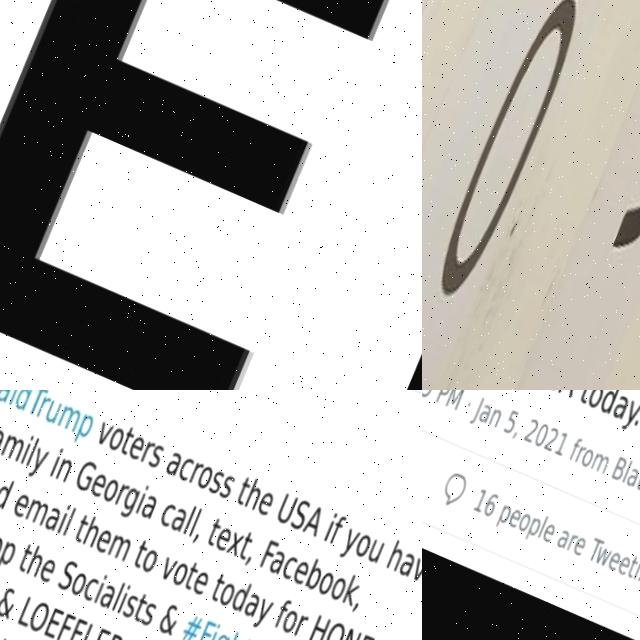0: (422, 0, 599, 307)
1: (499, 408, 518, 435)
2: (477, 490, 498, 518)
5: (591, 0, 640, 271)
A: (299, 503, 327, 538), (161, 449, 183, 478), (136, 492, 158, 521), (165, 505, 187, 533), (238, 591, 260, 619), (607, 393, 629, 421), (41, 504, 62, 533), (394, 551, 415, 579), (264, 548, 285, 576), (95, 582, 116, 610), (620, 464, 637, 488), (551, 526, 568, 550), (474, 401, 490, 423), (552, 390, 581, 398), (0, 390, 14, 403), (0, 426, 6, 454)
B: (301, 557, 325, 591), (607, 454, 626, 480)
C: (155, 500, 177, 528), (78, 574, 99, 602), (173, 456, 194, 482), (276, 554, 297, 580)
D: (227, 578, 250, 612), (594, 390, 618, 414), (10, 390, 34, 410), (0, 475, 14, 509)
E: (0, 0, 422, 390), (39, 605, 63, 639), (252, 489, 275, 518), (85, 470, 108, 499), (210, 524, 233, 553), (90, 526, 113, 555), (124, 433, 146, 462), (9, 490, 31, 519), (34, 556, 56, 585), (288, 559, 310, 587), (187, 568, 209, 596), (601, 548, 620, 572), (502, 506, 520, 528), (611, 554, 628, 576), (537, 521, 554, 543), (86, 625, 110, 640), (568, 535, 584, 557), (350, 632, 374, 640), (416, 561, 422, 590)
F: (255, 538, 278, 571), (269, 598, 290, 630), (53, 611, 76, 640), (325, 513, 346, 544), (64, 616, 86, 640), (192, 618, 214, 640), (564, 435, 581, 462)
G: (70, 457, 99, 493), (115, 484, 139, 519), (204, 631, 229, 640)
H: (382, 538, 406, 573), (78, 515, 102, 549), (22, 544, 46, 578), (242, 478, 264, 509), (304, 613, 329, 640), (221, 631, 243, 640)
I: (131, 483, 149, 515), (17, 434, 34, 464), (53, 504, 70, 534), (46, 447, 62, 477), (113, 583, 129, 613), (90, 574, 106, 604), (320, 512, 336, 541), (627, 554, 640, 579), (203, 623, 218, 640)
J: (465, 394, 483, 426)
K: (338, 573, 362, 607)
L: (13, 594, 37, 628), (185, 507, 202, 537), (59, 506, 76, 536), (107, 581, 124, 611), (75, 620, 99, 640), (23, 437, 39, 466), (179, 505, 195, 534), (533, 514, 546, 539), (617, 459, 631, 482), (5, 390, 22, 405)
M: (103, 532, 131, 562), (21, 497, 49, 527), (54, 404, 81, 433), (0, 432, 25, 462), (585, 450, 609, 475), (440, 390, 463, 411)
N: (52, 456, 72, 482), (485, 405, 501, 428), (335, 628, 359, 640), (632, 561, 640, 583)
O: (23, 598, 51, 634), (65, 568, 88, 597), (137, 546, 159, 575), (193, 464, 215, 492), (317, 619, 346, 640), (98, 476, 120, 503), (350, 532, 371, 560), (104, 425, 125, 453), (313, 570, 334, 597), (325, 575, 346, 601), (167, 560, 188, 586), (214, 581, 235, 607), (277, 608, 297, 634), (576, 445, 592, 468), (582, 390, 602, 408), (513, 512, 529, 532)
P: (71, 412, 95, 446), (0, 539, 16, 573), (520, 514, 540, 541), (491, 502, 510, 530), (431, 390, 449, 403)
R: (185, 461, 203, 486), (290, 613, 308, 638), (138, 440, 155, 465), (34, 394, 51, 419), (112, 483, 129, 506), (561, 533, 575, 552), (571, 444, 584, 463), (98, 631, 125, 640)
S: (53, 557, 78, 591), (287, 500, 311, 532), (145, 443, 165, 469), (204, 470, 224, 496), (216, 473, 236, 499), (118, 593, 138, 619), (138, 600, 156, 627)
T: (21, 390, 49, 417), (128, 537, 149, 569), (231, 475, 252, 506), (202, 516, 223, 547), (69, 511, 90, 542), (206, 571, 227, 602), (13, 542, 34, 573), (127, 592, 148, 623), (116, 426, 136, 457), (234, 530, 254, 561), (179, 560, 199, 591), (581, 536, 602, 563), (621, 553, 638, 578), (573, 390, 594, 405)
U: (271, 493, 297, 526), (362, 537, 385, 566), (42, 399, 61, 424), (632, 469, 640, 491)
V: (155, 555, 177, 582), (92, 421, 113, 447), (405, 555, 422, 584)
W: (588, 543, 610, 567)
X: (222, 529, 244, 557)
Y: (334, 526, 359, 560), (25, 446, 49, 480), (248, 597, 272, 631), (616, 398, 640, 432)
